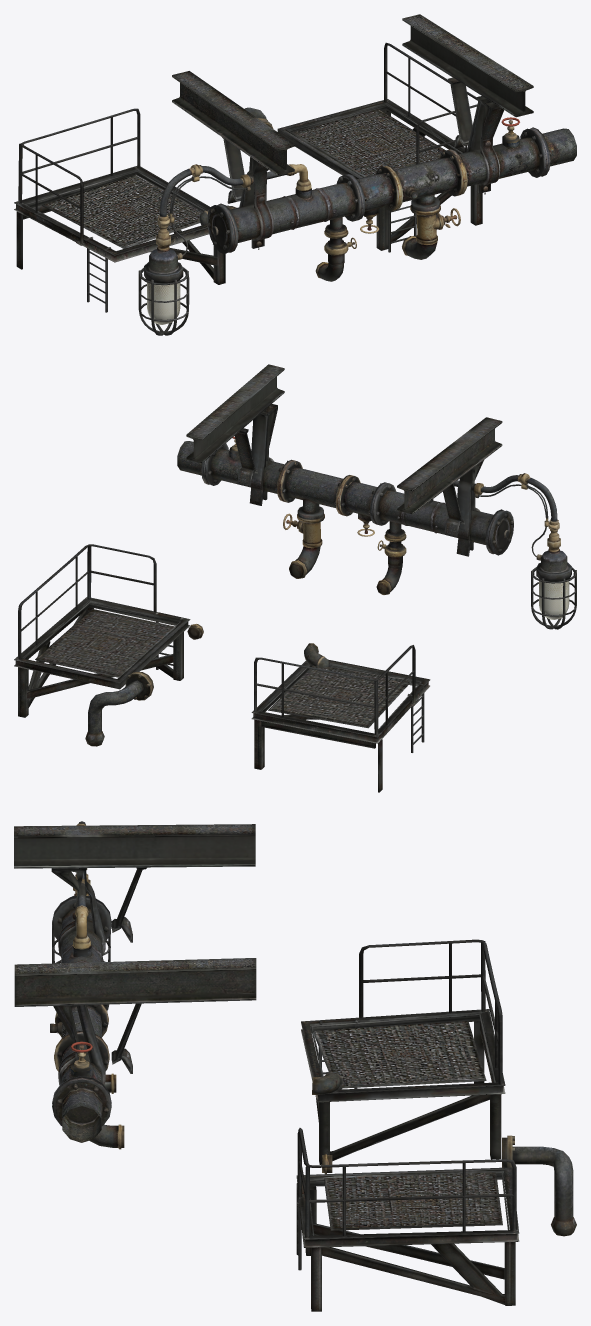
File: SM_IndustrialPipe.fbx
The picture shows the model from 3 angles, top to bottom: view 1: azimuth 30°, elevation 25°; view 2: azimuth 150°, elevation 25°; view 3: azimuth 270°, elevation 25°; orthographic projection. The views are drawn at different scales.
Parts seen in each view (by area): view 1: tripo_850b7550_b475_4047_b612_698a6a1bb1a0; view 2: tripo_850b7550_b475_4047_b612_698a6a1bb1a0; view 3: tripo_850b7550_b475_4047_b612_698a6a1bb1a0.
Part boxes in pixels (x1=…): tripo_850b7550_b475_4047_b612_698a6a1bb1a0: x1=14, y1=14, x2=576, y2=335; tripo_850b7550_b475_4047_b612_698a6a1bb1a0: x1=14, y1=364, x2=576, y2=792; tripo_850b7550_b475_4047_b612_698a6a1bb1a0: x1=14, y1=821, x2=576, y2=1311.
Size of the model in its own units: 0.9995 by 0.5376 by 0.9331.
Materials: 1 (1 with a texture image).
